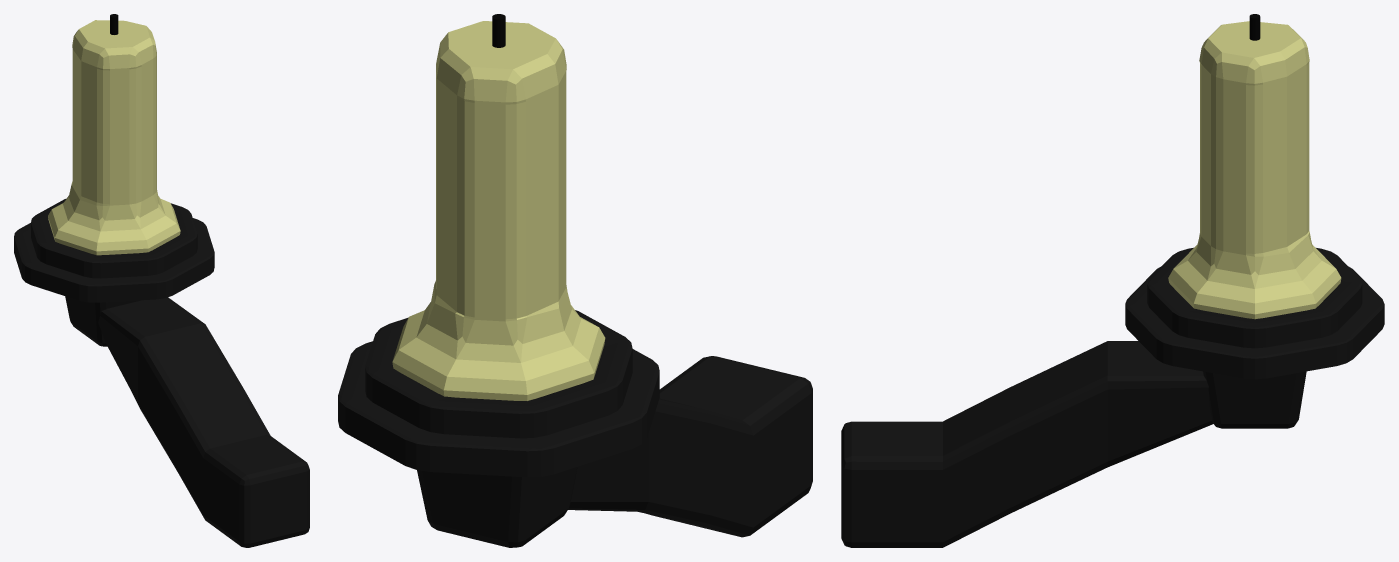
The model's file is Candle.obj.
3 renders of one model, left to right at view 1: azimuth 30°, elevation 25°; view 2: azimuth 150°, elevation 25°; view 3: azimuth 270°, elevation 25°, orthographic. The views are drawn at different scales.
Visible parts, largest first — view 1: Cube.036, Cylinder, Cylinder.004; view 2: Cylinder, Cube.036, Cylinder.004; view 3: Cube.036, Cylinder, Cylinder.004.
Part boxes in pixels (x1,y1,x2,y2): Cube.036: (65,296,309,547); Cylinder: (48,20,180,255); Cylinder.004: (14,199,214,302); Cylinder: (392,21,605,400); Cube.036: (417,356,812,547); Cylinder.004: (338,310,659,477); Cube.036: (841,341,1306,547); Cylinder: (1168,21,1341,319); Cylinder.004: (1125,247,1384,379).
Bounding box in the file's own units: 0.9607 × 2.1 × 2.01.
